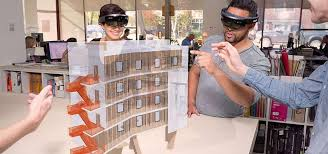hololens: (220, 7, 259, 31), (96, 13, 130, 30)
